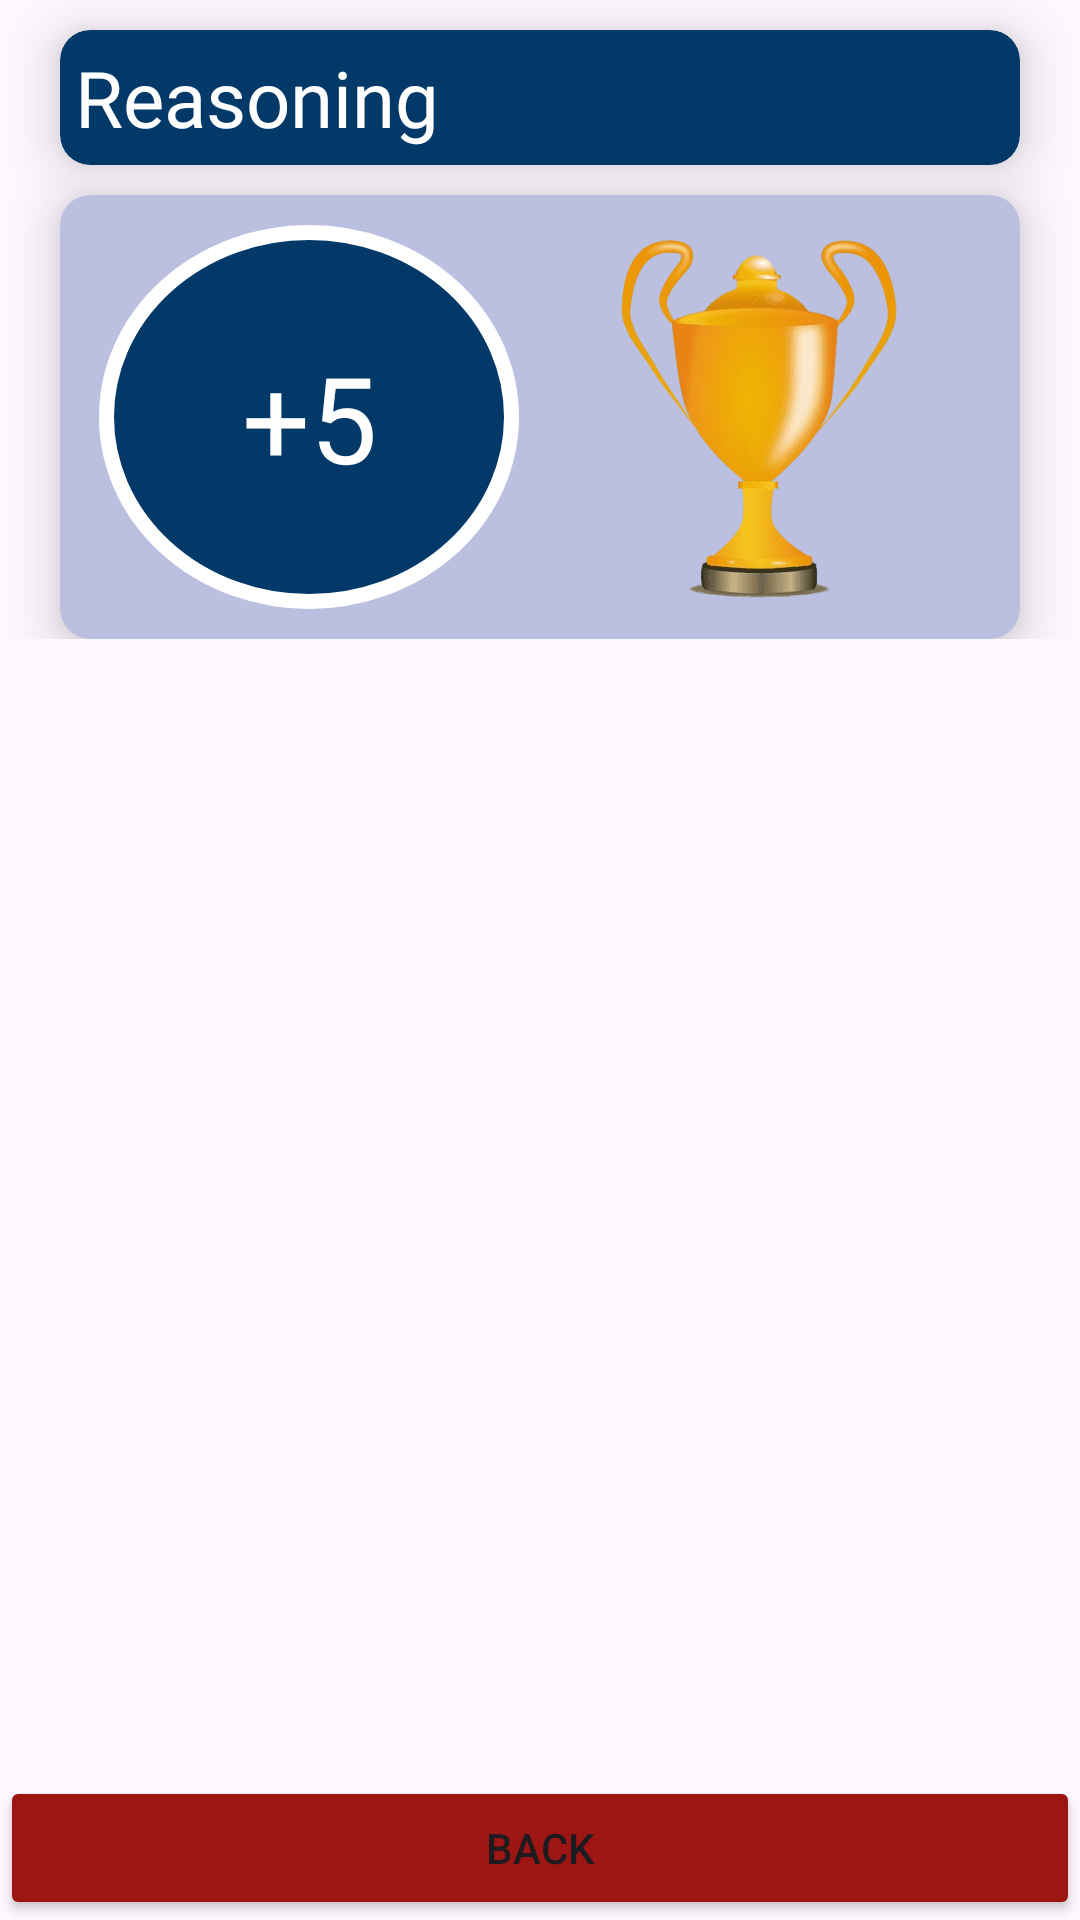

Icon click points for this 1080 × 1920 phone screenshot, format (x,y):
trophy: (759,419)
